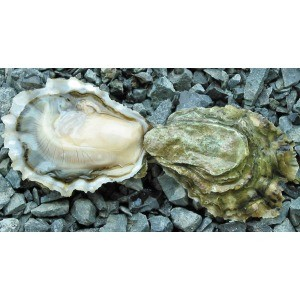oyster_brain food: (5, 84, 136, 202), (151, 110, 289, 213)
